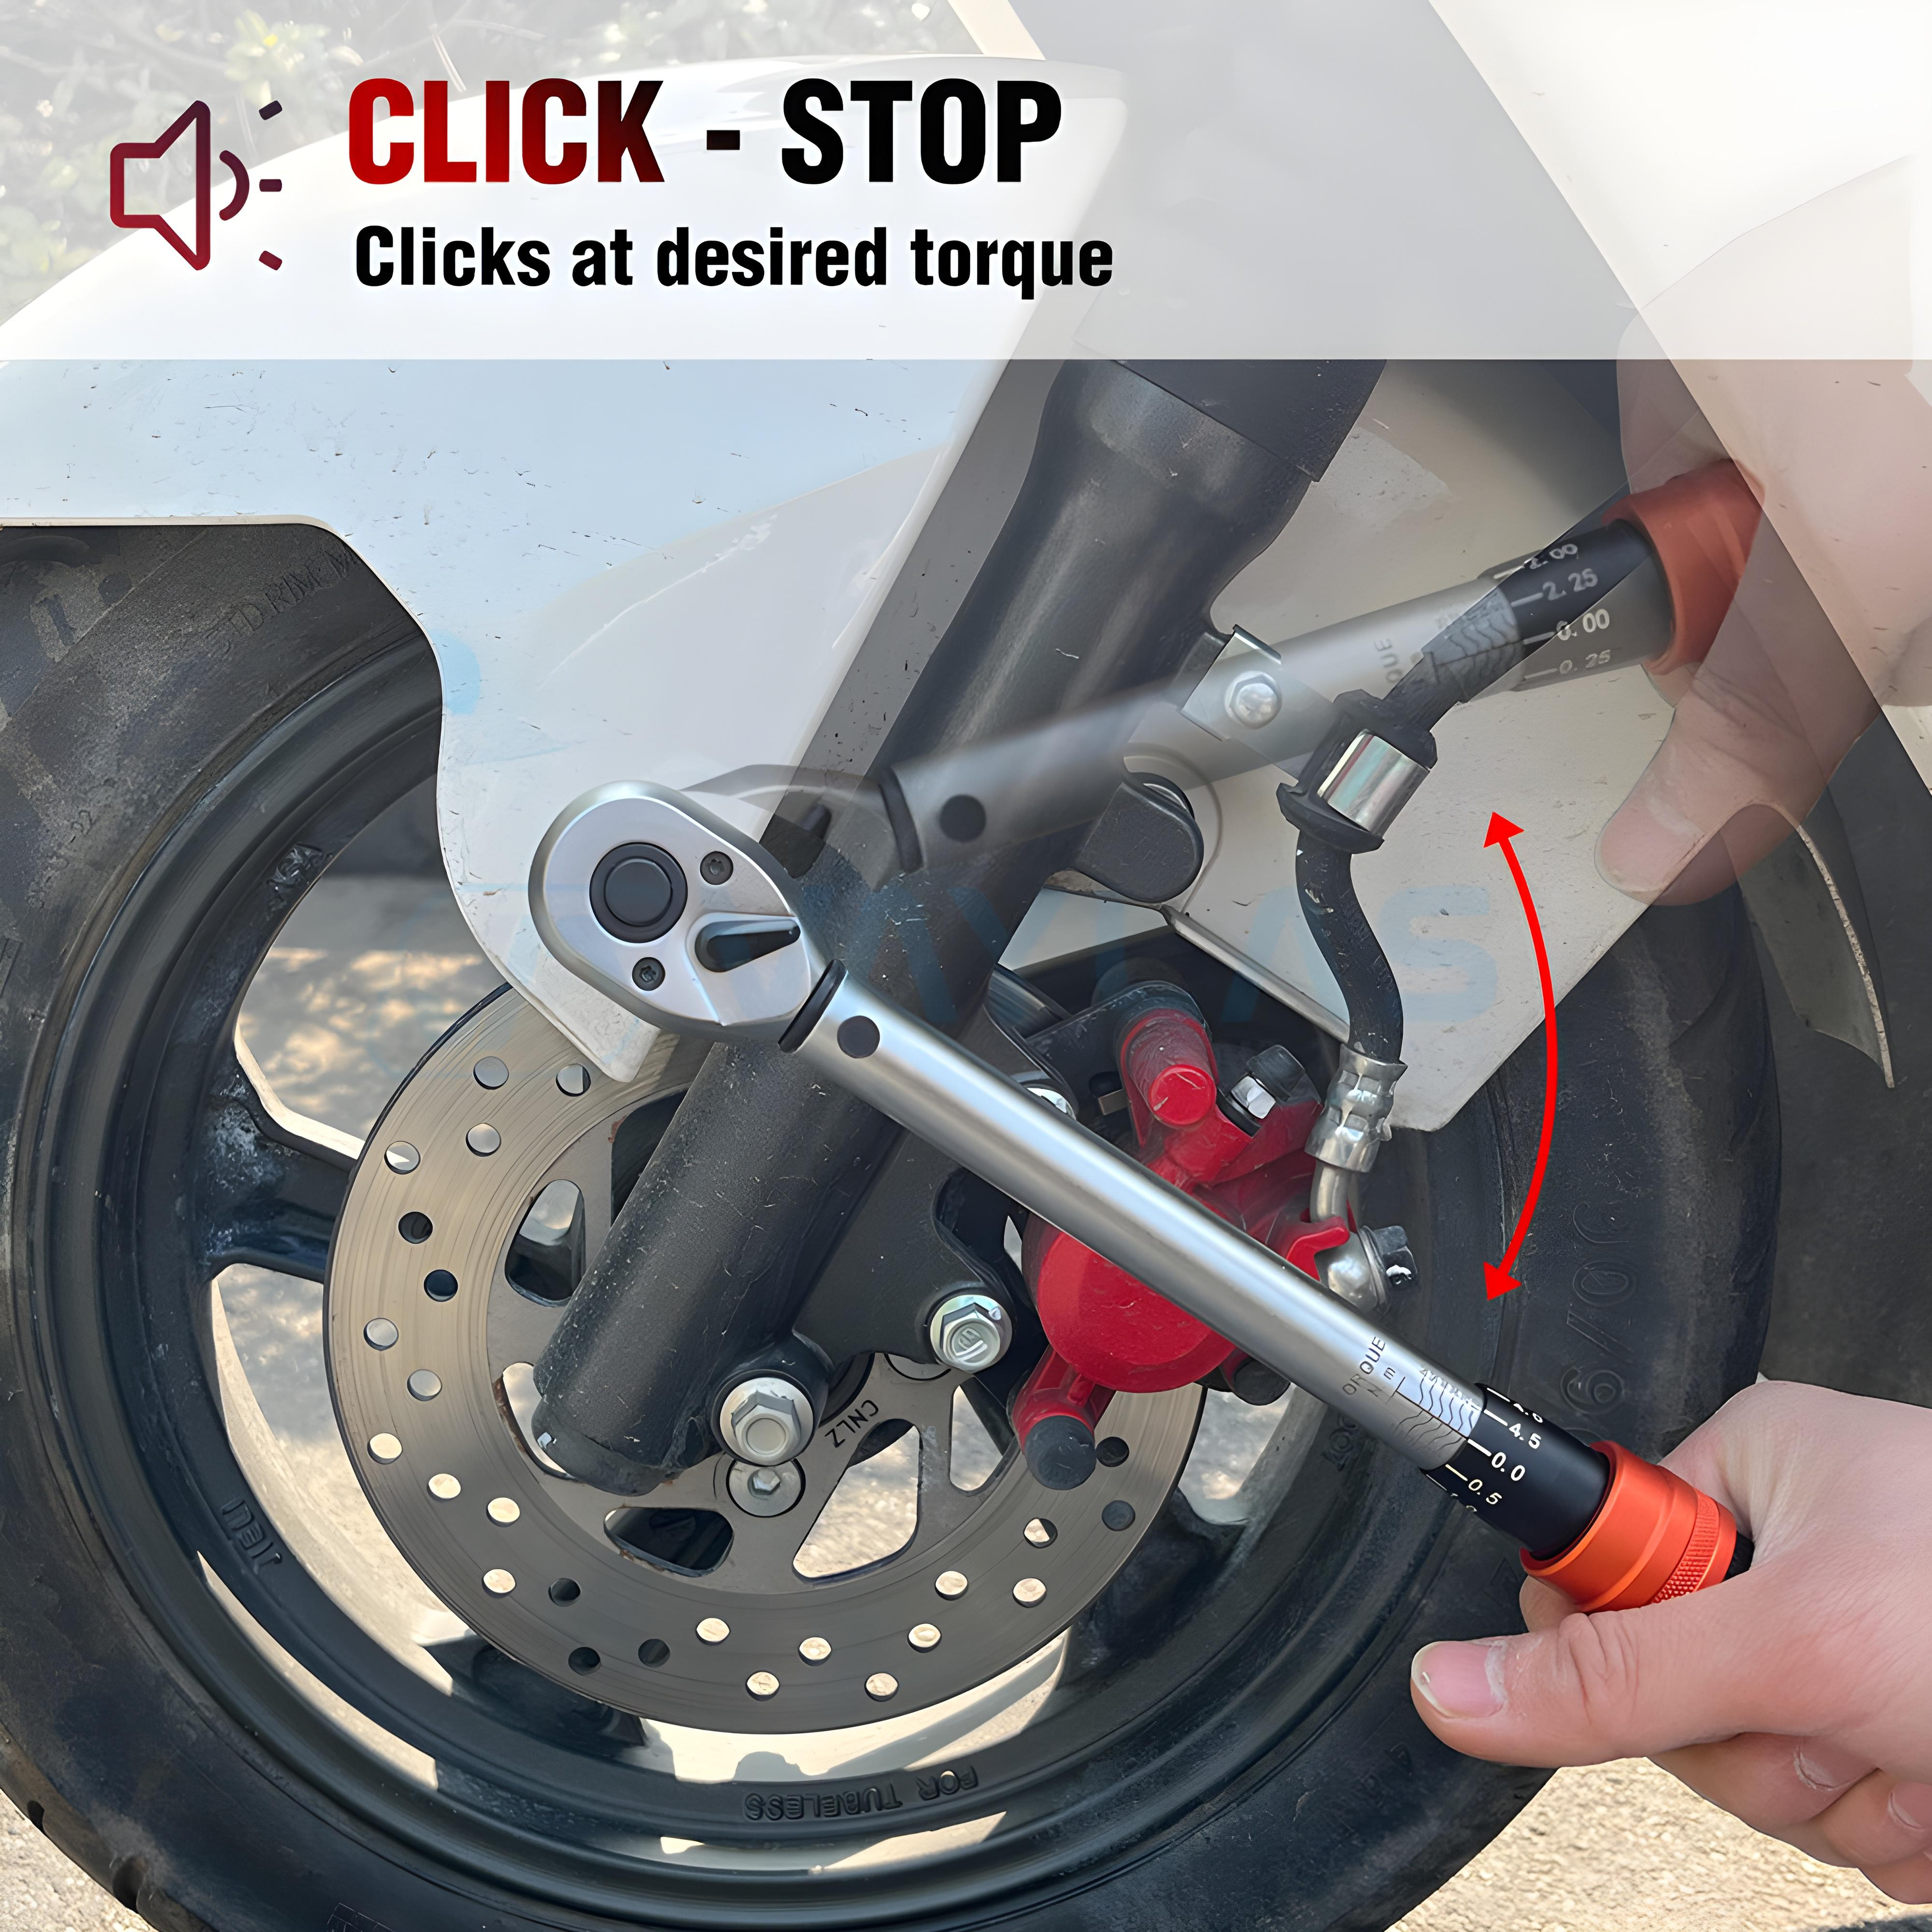Tool: (518, 782, 817, 1051)
